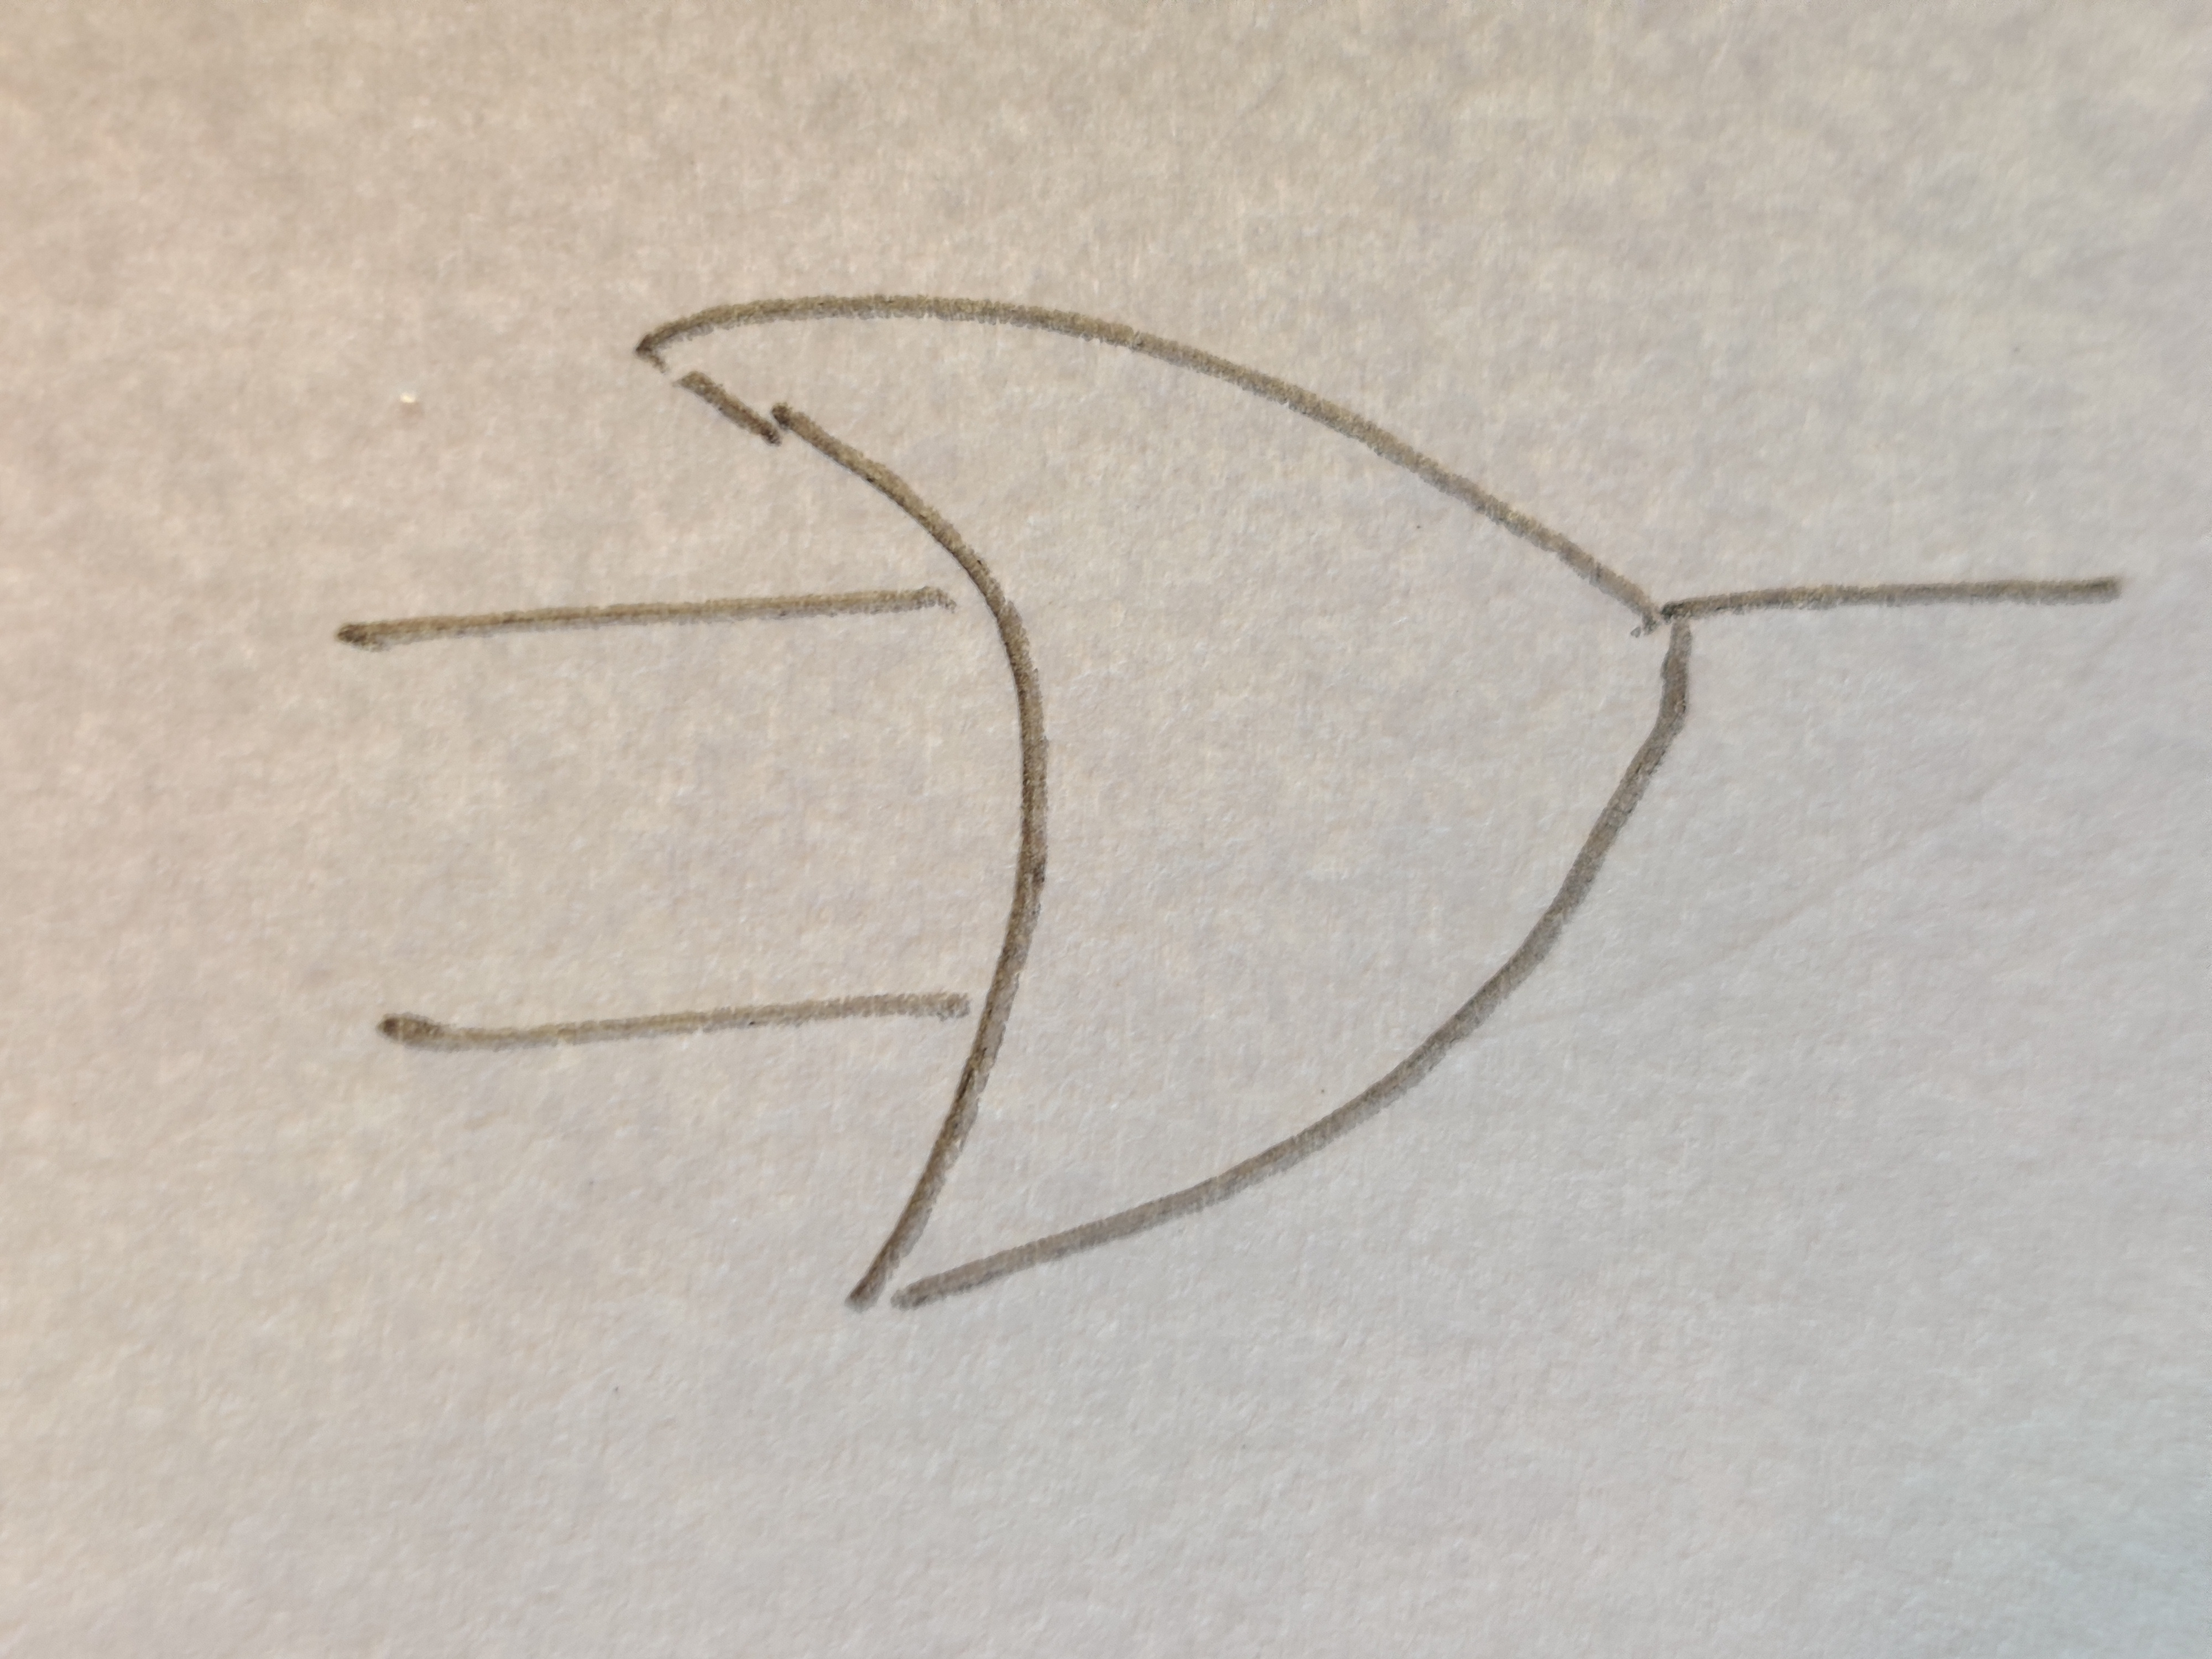or: (643, 296, 1696, 1314)
